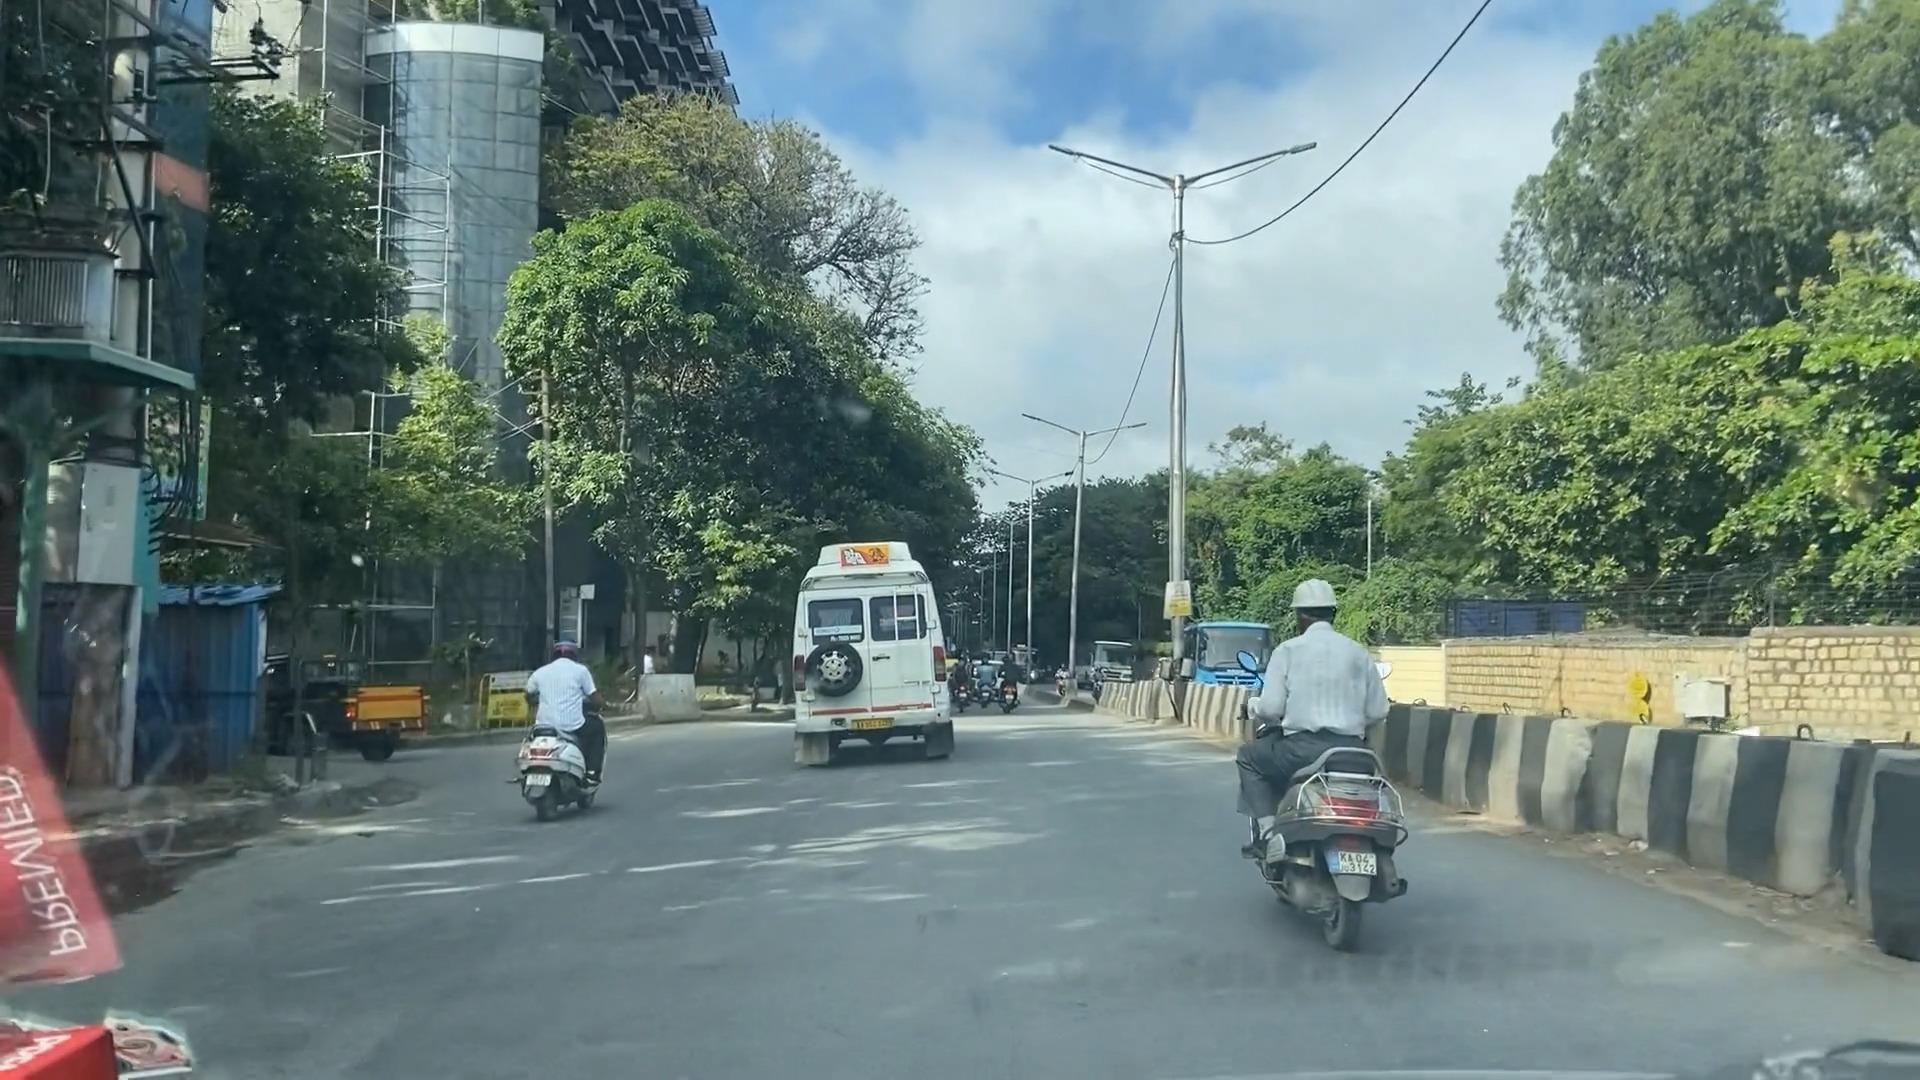HMV: (795, 533, 973, 777)
LMV: (1228, 568, 1410, 943), (493, 618, 617, 828)
